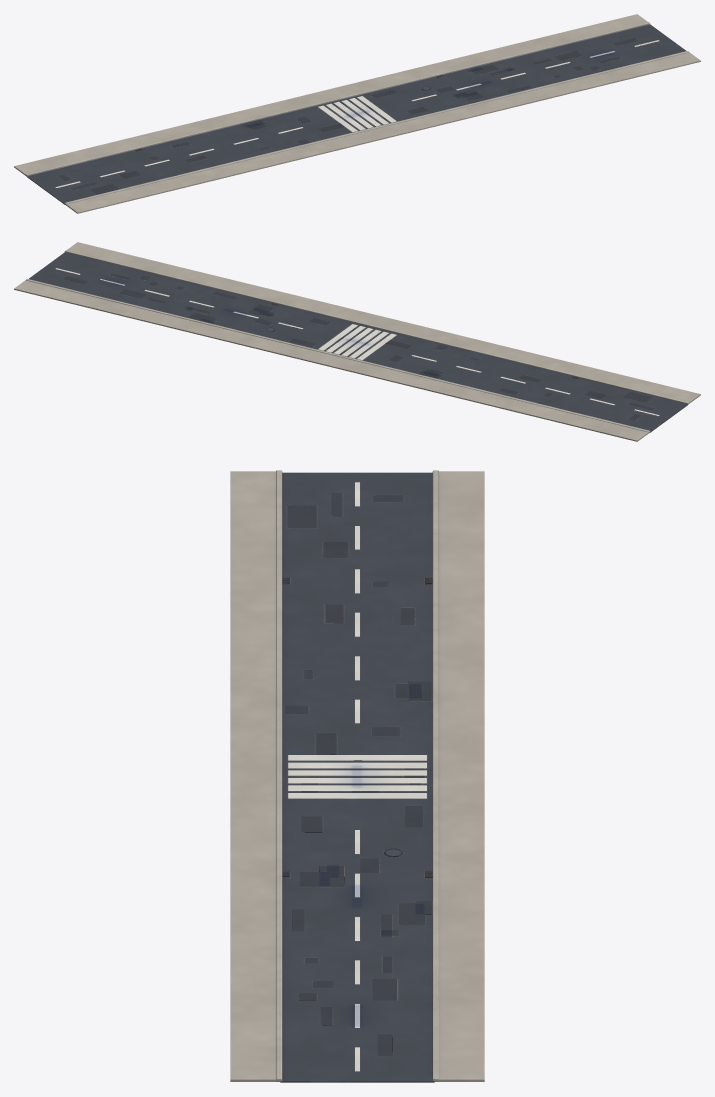
File: street.glb
3 views of the same model, one above another, from view 1: azimuth 30°, elevation 25°; view 2: azimuth 150°, elevation 25°; view 3: azimuth 270°, elevation 25° (orthographic). The views are drawn at different scales.
Parts seen in each view (by area): view 1: SM_Street; view 2: SM_Street; view 3: SM_Street.
Boxes of the visible parts, bbox=[...] form: SM_Street: bbox=[14, 14, 700, 213]; SM_Street: bbox=[14, 242, 700, 441]; SM_Street: bbox=[230, 470, 484, 1082].
Bounding box in the file's own units: 56 × 0.18 × 9.9.
1 material, 1 textured.
